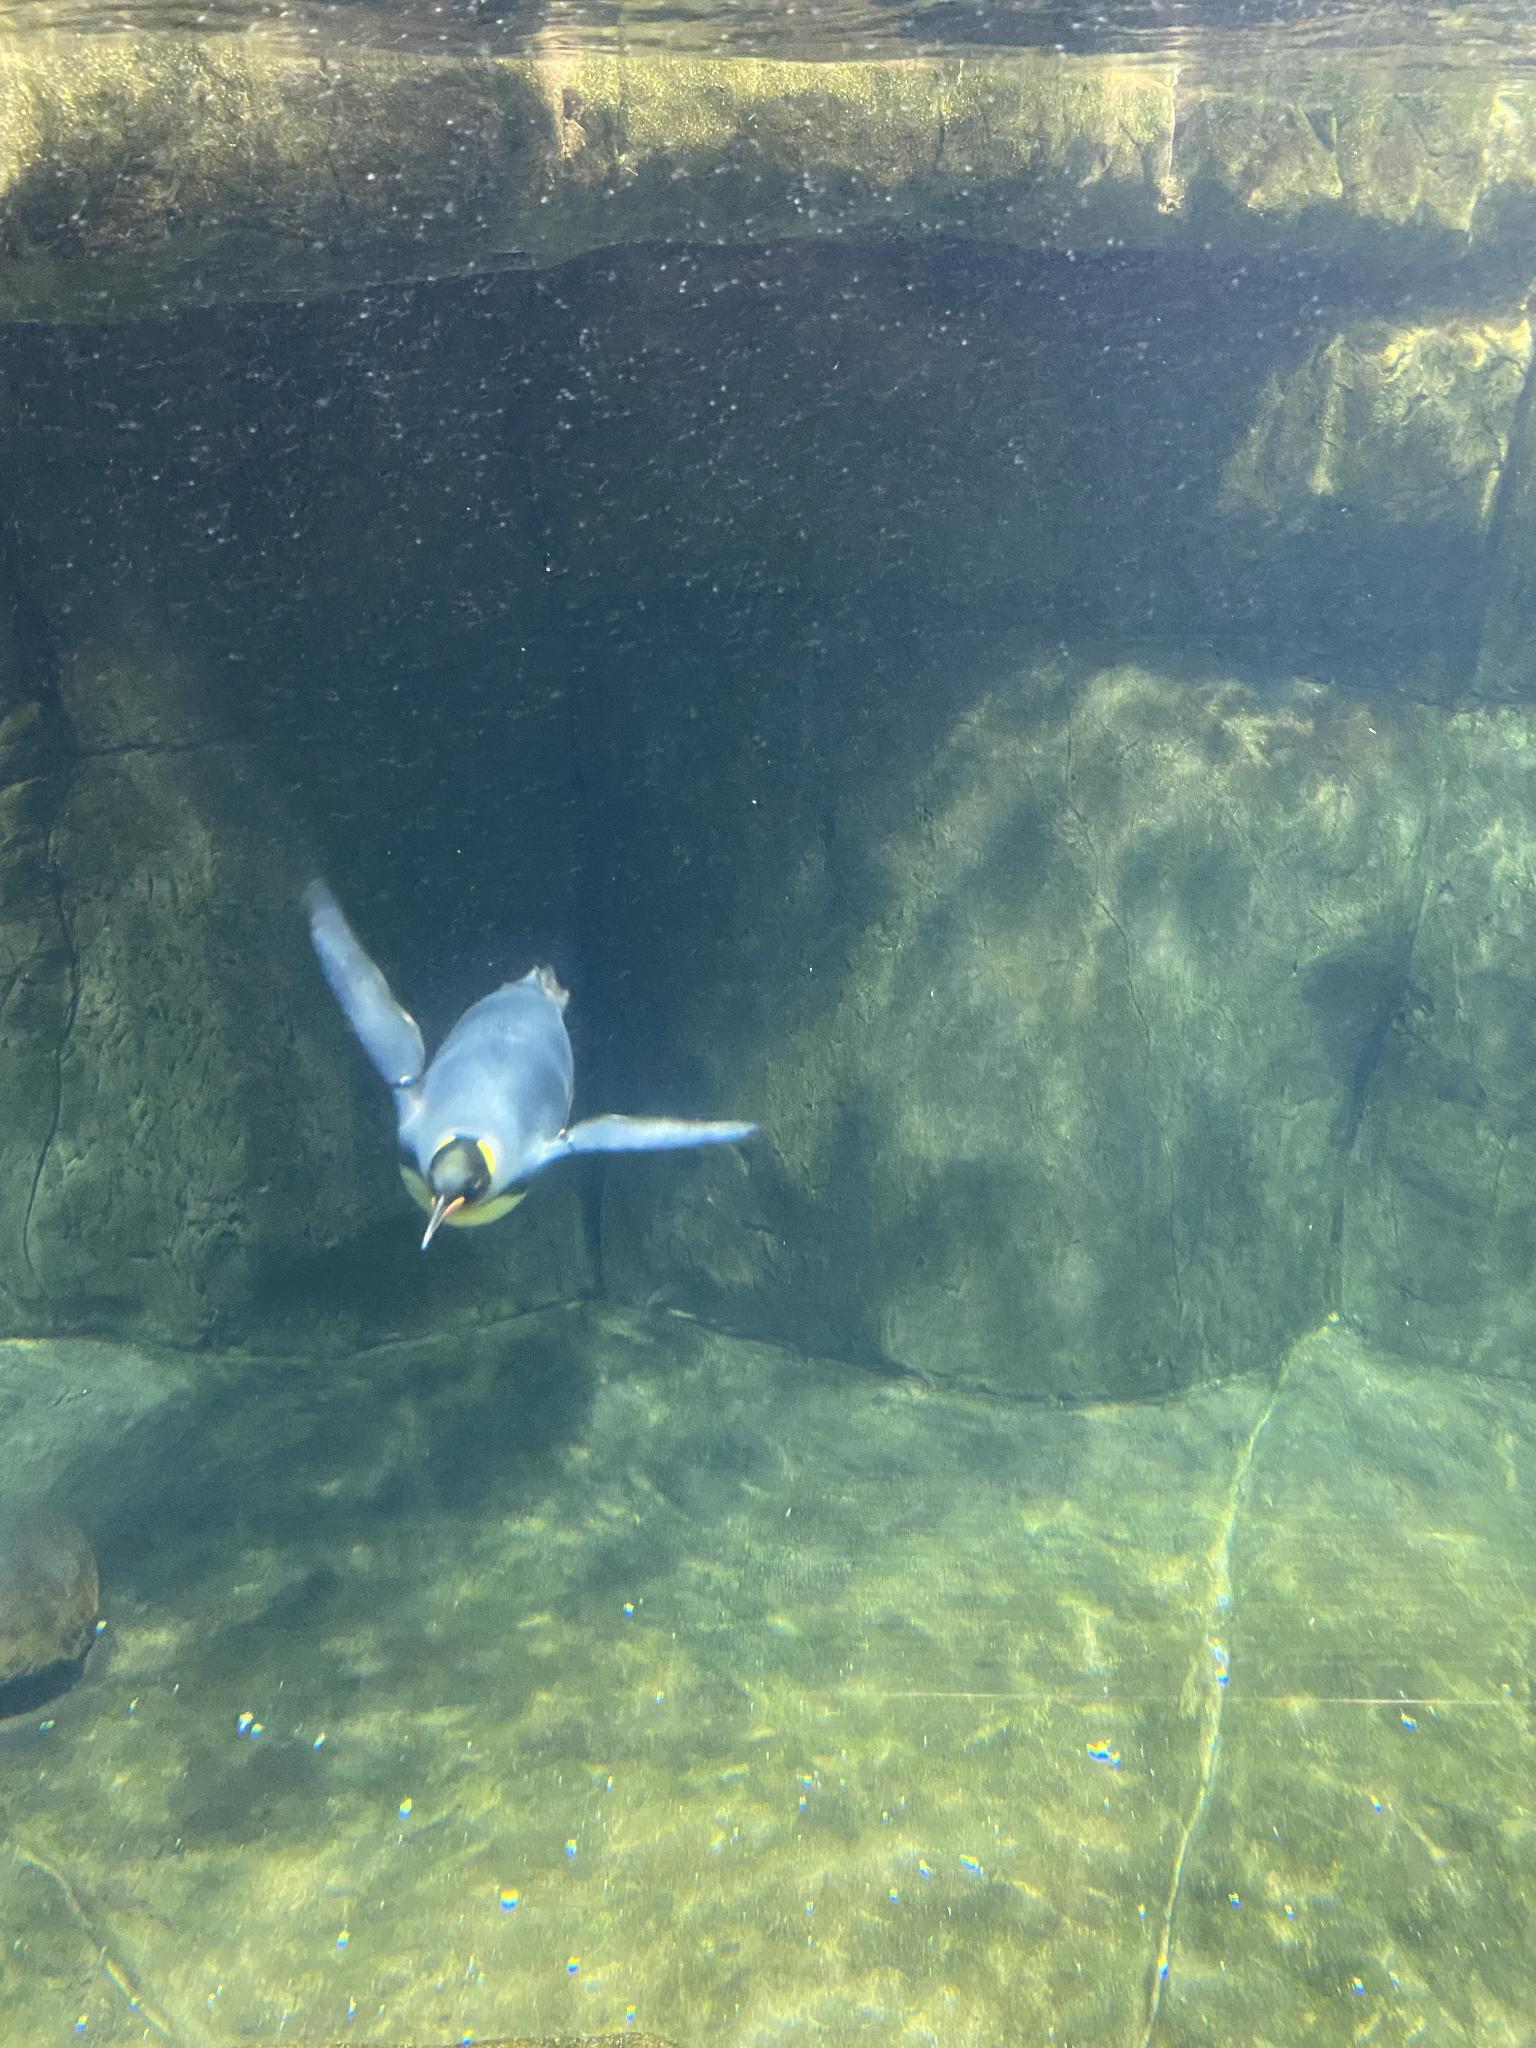penguin: (302, 872, 757, 1255)
